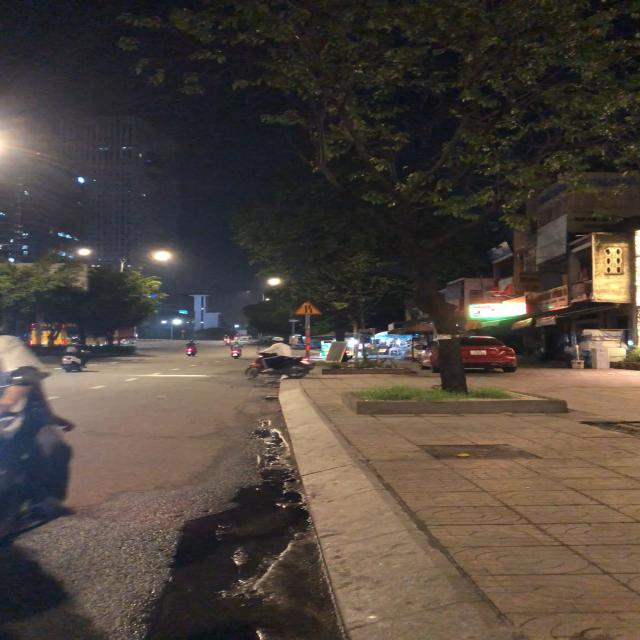Bien bao duong bi thu hep: (292, 300, 326, 316)
